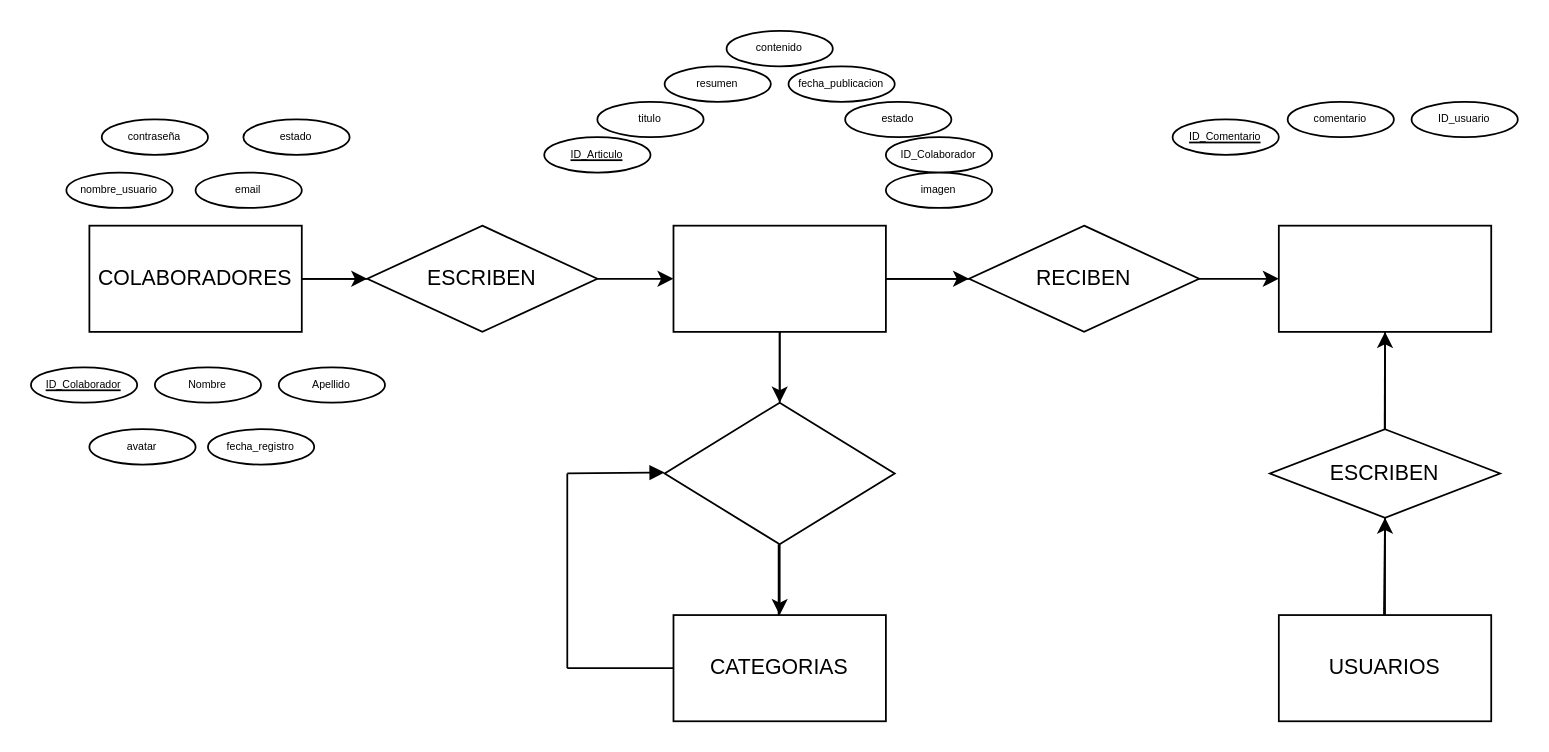
The diagram is 1549 pixels wide and 752 high, and some of its shapes have lost their labels. Each missing label, with the centre of its shape:
"ARTICULOS" belongs at [779,278].
"COMENTARIOS" belongs at [1384,278].
"PERTENECEN A" belongs at [779,472].
